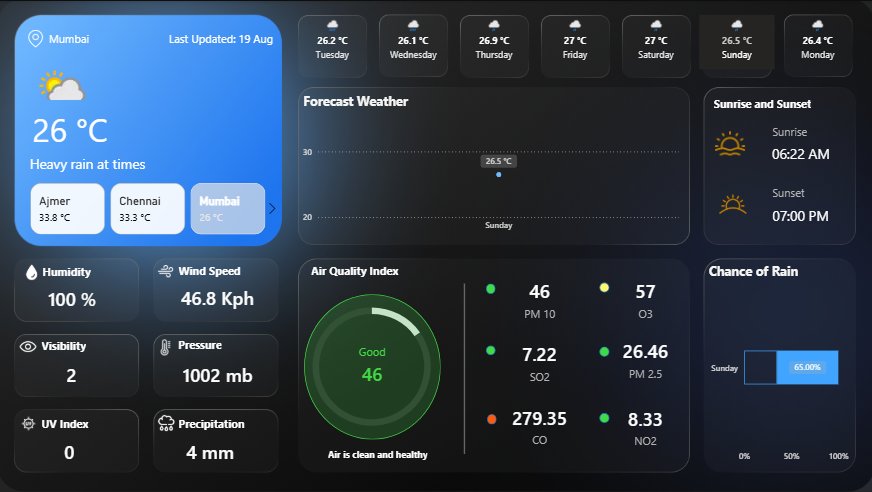

Layout of this report page (visuals, bound fields, positions):
{"tool":"powerbi","page":{"name":"Page 1","canvas":[1280,720],"ordinal":0},"visuals":[{"type":"donutChart","fields":{"Y":["Sum(Current.current.air_quality.pm10)","_Measures.Left_value_PM10"]},"box":[433.9,382.2,225.8,305.2],"z":0},{"type":"shape","box":[447.8,428.9,199.3,211.9],"z":1000},{"type":"advancedSlicerVisual","fields":{"Values":["Locations.location.name"]},"box":[23,280.8,393.4,67.8],"z":2000},{"type":"shape","box":[38.7,158.6,181.6,70.2],"z":3000},{"type":"shape","box":[38.7,228.8,289.3,32.7],"z":4000},{"type":"shape","box":[220.3,38.7,185.2,35.1],"z":5000},{"type":"shape","box":[73.8,41.2,128.3,32.7],"z":6000},{"type":"image","box":[38.7,38.7,35.1,35.1],"z":7000},{"type":"cardVisual","fields":{"Data":["Min(Current.current.condition.icon)"]},"box":[38.7,62.9,128.3,87.2],"z":8000},{"type":"image","box":[29.1,381.3,41.2,32.7],"z":9000},{"type":"image","box":[227.6,596.8,38.7,42.4],"z":10000},{"type":"image","box":[230,487.8,32.7,36.3],"z":11000},{"type":"image","box":[29.1,602.8,32.7,31.5],"z":12000},{"type":"image","box":[26.6,486.6,37.5,37.5],"z":13000},{"type":"image","box":[228.8,378.9,32.7,32.7],"z":14000},{"type":"shape","box":[64.2,381.3,127.1,32.7],"z":15000},{"type":"shape","box":[261.5,378.9,127.1,32.7],"z":16000},{"type":"shape","box":[61.7,487.8,127.1,32.7],"z":17000},{"type":"shape","box":[261.5,602.8,127.1,32.7],"z":18000},{"type":"shape","box":[61.7,601.6,127.1,32.7],"z":19000},{"type":"shape","box":[261.5,486.6,127.1,30.3],"z":20000},{"type":"card","fields":{"Values":["_Measures.Humidity"]},"box":[49.4,412.9,120.3,48.1],"z":21000},{"type":"card","fields":{"Values":["_Measures.Wind_Speed"]},"box":[244.6,415.6,153.7,42.8],"z":22000},{"type":"card","fields":{"Values":["_Measures.Pressure"]},"box":[261.1,522.2,123.6,51.7],"z":23000},{"type":"card","fields":{"Values":["_Measures.Precipitation"]},"box":[263.3,634.8,94.9,49.4],"z":24000},{"type":"card","fields":{"Values":["Sum(Current.current.uv)"]},"box":[72.2,637.5,68.2,44.1],"z":25000},{"type":"card","fields":{"Values":["Sum(Current.current.vis_km)"]},"box":[72.2,527.9,74.8,41.4],"z":26000},{"type":"advancedSlicerVisual","fields":{"Values":["Forecast_Day.Day_Name"]},"box":[428.6,16.9,832.5,89.6],"z":27000},{"type":"lineChart","title":"Forecast Weather","fields":{"Y":["Sum(Forecast_Day.forecast.forecastday.day.avgtemp_c)"],"Category":["Forecast_Day.Day_Name"]},"box":[441.7,134.6,558.1,213.1],"z":28000},{"type":"shape","box":[1042.2,130.7,187.6,39.9],"z":29000},{"type":"shape","box":[1128.2,176.7,127.1,32.7],"z":30000},{"type":"shape","box":[1128.2,209.4,93.2,27.8],"z":31000},{"type":"shape","box":[1128.2,297.8,108.9,32.7],"z":32000},{"type":"shape","box":[1128.2,265.1,127.1,32.7],"z":33000},{"type":"image","box":[1042.2,179.2,53.3,59.3],"z":34000},{"type":"image","box":[1042.2,261.5,61.7,71.4],"z":35000},{"type":"hundredPercentStackedBarChart","title":"Chance  of Rain","fields":{"Category":["Forecast_Day.Day_Name"],"Y":["_Measures.Left_Value_Rain","Sum(Forecast_Day.forecast.forecastday.day.daily_chance_of_rain)"]},"box":[1032.6,382.5,214.3,301.4],"z":36000},{"type":"shape","box":[455.1,378.9,185.2,32.7],"z":37000},{"type":"card","fields":{"Values":["Sum(Current.current.air_quality.pm10)"]},"box":[737.9,398.6,107.2,75.7],"z":38000},{"type":"card","fields":{"Values":["Sum(Current.current.air_quality.no2)"]},"box":[892.7,583.3,107.1,76.7],"z":39000},{"type":"card","fields":{"Values":["Sum(Current.current.air_quality.o3)"]},"box":[892.7,398.1,107.1,76.7],"z":40000},{"type":"card","fields":{"Values":["Sum(Current.current.air_quality.so2)"]},"box":[737.9,490.7,107.2,76.9],"z":41000},{"type":"card","fields":{"Values":["Sum(Current.current.air_quality.pm2_5)"]},"box":[892.7,485.4,107.1,76.7],"z":42000},{"type":"card","fields":{"Values":["Sum(Current.current.air_quality.co)"]},"box":[737.9,582.7,107.2,76.9],"z":43000},{"type":"shape","box":[712.7,413.7,13.9,15.1],"z":44000},{"type":"shape","box":[712.7,504.5,13.9,13.9],"z":45000},{"type":"shape","box":[713.9,604.2,13.9,15.1],"z":46000},{"type":"shape","box":[878.2,412.6,14.5,14.5],"z":47000},{"type":"shape","box":[878.2,505.2,14.5,14.5],"z":48000},{"type":"shape","box":[878.2,601.8,14.5,14.5],"z":49000},{"type":"shape","box":[671,413.7,21.4,248.5],"z":50000},{"type":"card","fields":{"Values":["Sum(Current.current.air_quality.pm10)"]},"box":[495.7,502,102.2,68.1],"z":51000},{"type":"shape","box":[407.4,645.8,296.4,32.8],"z":51001}]}

Visuals, with their boxes in screenshot pixels (x1, y1, x2, y2), scaled from the page's 1280x720 canvas onto the 872x492 screenshot:
donutChart - Sum(Current.current.air_quality.pm10) x _Measures.Left_value_PM10: 296/261/449/470
shape: 305/293/441/438
advancedSlicerVisual - Locations.location.name: 16/192/284/238
shape: 26/108/150/156
shape: 26/156/223/179
shape: 150/26/276/50
shape: 50/28/138/50
image: 26/26/50/50
cardVisual - Min(Current.current.condition.icon): 26/43/114/103
image: 20/261/48/283
image: 155/408/181/437
image: 157/333/179/358
image: 20/412/42/433
image: 18/333/44/358
image: 156/259/178/281
shape: 44/261/130/283
shape: 178/259/265/281
shape: 42/333/129/356
shape: 178/412/265/434
shape: 42/411/129/433
shape: 178/333/265/353
card - _Measures.Humidity: 34/282/116/315
card - _Measures.Wind_Speed: 167/284/271/313
card - _Measures.Pressure: 178/357/262/392
card - _Measures.Precipitation: 179/434/244/468
card - Sum(Current.current.uv): 49/436/96/466
card - Sum(Current.current.vis_km): 49/361/100/389
advancedSlicerVisual - Forecast_Day.Day_Name: 292/12/859/73
"Forecast Weather" lineChart: 301/92/681/238
shape: 710/89/838/117
shape: 769/121/855/143
shape: 769/143/832/162
shape: 769/203/843/226
shape: 769/181/855/203
image: 710/122/746/163
image: 710/179/752/227
"Chance  of Rain" hundredPercentStackedBarChart: 703/261/849/467
shape: 310/259/436/281
card - Sum(Current.current.air_quality.pm10): 503/272/576/324
card - Sum(Current.current.air_quality.no2): 608/399/681/451
card - Sum(Current.current.air_quality.o3): 608/272/681/324
card - Sum(Current.current.air_quality.so2): 503/335/576/388
card - Sum(Current.current.air_quality.pm2_5): 608/332/681/384
card - Sum(Current.current.air_quality.co): 503/398/576/451
shape: 486/283/495/293
shape: 486/345/495/354
shape: 486/413/496/423
shape: 598/282/608/292
shape: 598/345/608/355
shape: 598/411/608/421
shape: 457/283/472/453
card - Sum(Current.current.air_quality.pm10): 338/343/407/390
shape: 278/441/479/464
